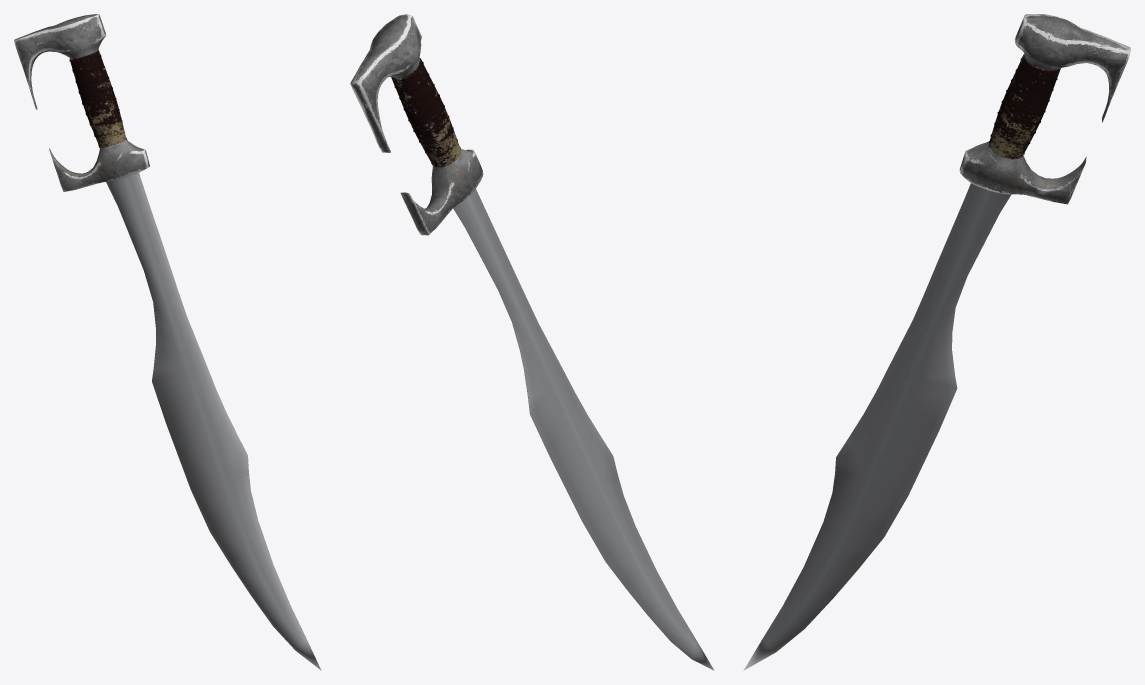
Rendered from spartan_sword_low_poly.glb.
3 views of the same model, side by side, from view 1: azimuth 90°, elevation 25°; view 2: azimuth 150°, elevation 25°; view 3: azimuth 270°, elevation 25° (orthographic). The views are drawn at different scales.
Parts seen in each view (by area): view 1: Sword_lp.002_HH_Sword_blade_0; view 2: Sword_lp.002_HH_Sword_blade_0; view 3: Sword_lp.002_HH_Sword_blade_0.
Boxes of the visible parts, x1=… form: Sword_lp.002_HH_Sword_blade_0: x1=14, y1=14, x2=321, y2=670; Sword_lp.002_HH_Sword_blade_0: x1=350, y1=14, x2=714, y2=670; Sword_lp.002_HH_Sword_blade_0: x1=743, y1=14, x2=1130, y2=670.
Size of the model in its own units: 283 by 1032 by 490.
Materials: 1 (1 with a texture image).
